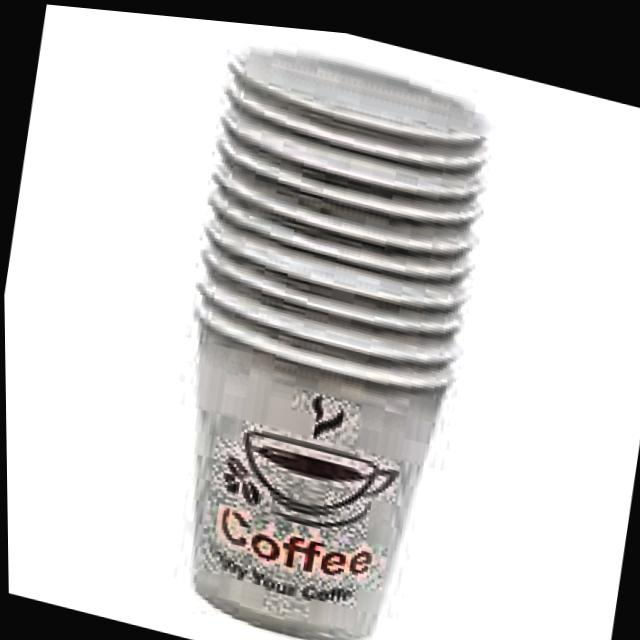Cup: (132, 17, 514, 640)
